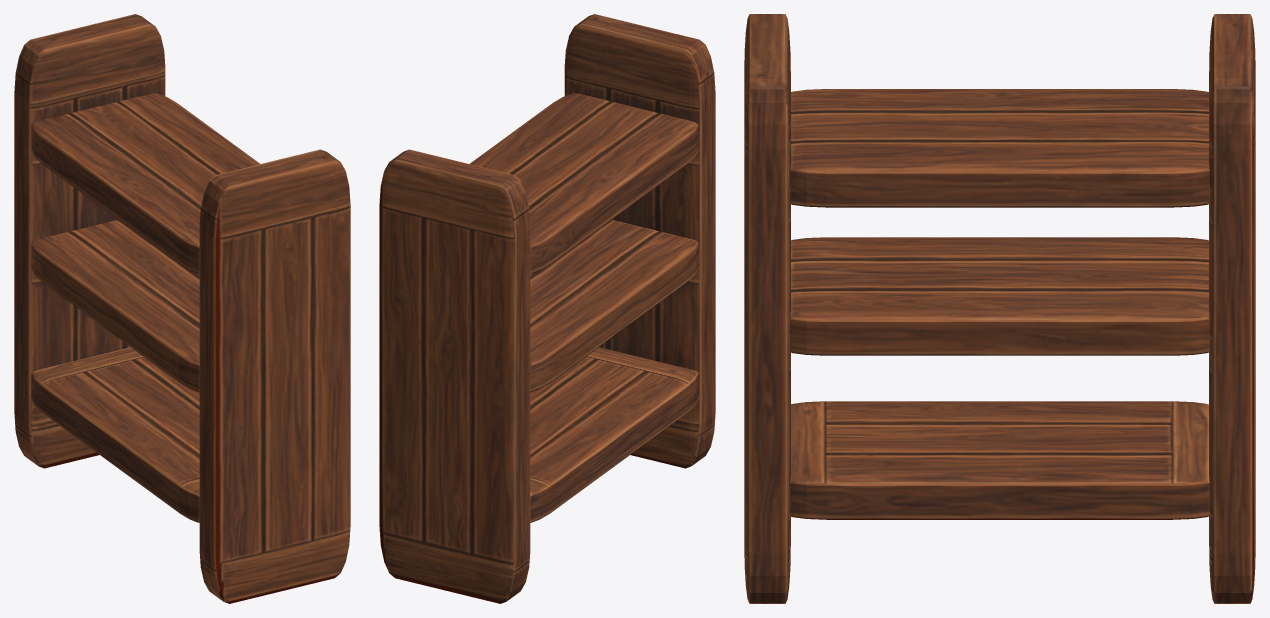
File: shefl.glb
3 renders of one model, left to right at view 1: azimuth 30°, elevation 25°; view 2: azimuth 150°, elevation 25°; view 3: azimuth 270°, elevation 25°, orthographic. The views are drawn at different scales.
Visible parts, largest first — view 1: Cube; view 2: Cube; view 3: Cube.
Part boxes in pixels (x1,y1,x2,y2): Cube: [14, 14, 350, 603]; Cube: [379, 14, 715, 603]; Cube: [744, 14, 1255, 603].
Size of the model in its own units: 0.7039 by 2 by 1.76.
1 material, 1 textured.
